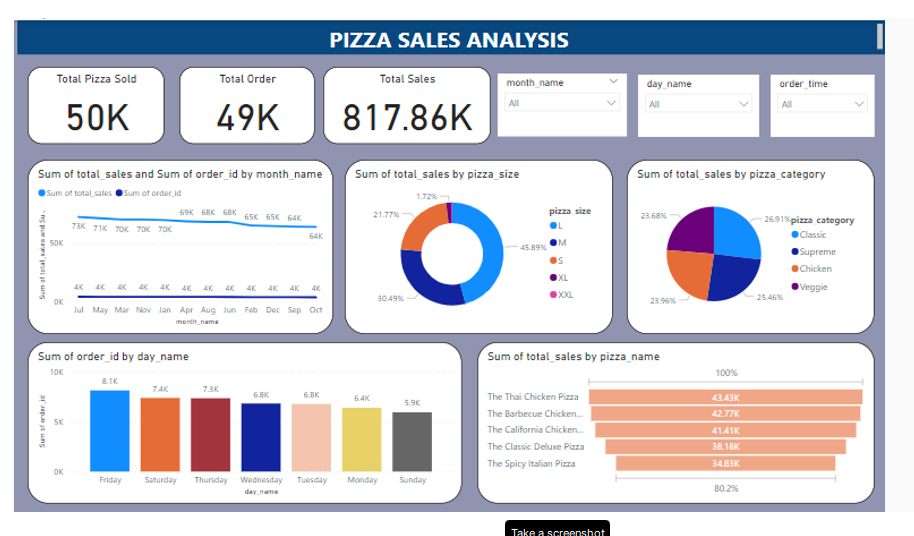

What the dashboard file says about the page in this screenshot:
{"tool":"powerbi","page":{"name":"Page 1","canvas":[1280,720],"ordinal":0},"visuals":[{"type":"textbox","box":[10.1,0,1269.9,50.4],"z":0},{"type":"card","title":"Total Order","fields":{"Values":["Sum(export.order_id)"]},"box":[246.9,67.2,198.2,112.5],"z":1000},{"type":"card","title":"Total Sales","fields":{"Values":["Sum(export.total_sales)"]},"box":[457.8,67.3,244.5,113.2],"z":2000},{"type":"card","title":"Total Pizza Sold","fields":{"Values":["Sum(export.Total Pizzza Sold)"]},"box":[25.2,67.2,199.9,112.5],"z":3000},{"type":"lineChart","fields":{"Y":["Sum(export.total_sales)","Sum(export.order_id)"],"Category":["export.month_name"]},"box":[25.1,204.4,447.3,254.7],"z":4000},{"type":"columnChart","fields":{"Category":["export.day_name"],"Y":["Sum(export.order_id)"]},"box":[25.1,470.8,635,236.2],"z":5000},{"type":"donutChart","fields":{"Category":["export.pizza_size"],"Y":["Sum(export.total_sales)"]},"box":[489.2,204.4,392,254.7],"z":5001},{"type":"pieChart","fields":{"Category":["export.pizza_category"],"Y":["Sum(export.total_sales)"]},"box":[901.4,204.4,361.9,254.7],"z":5002},{"type":"funnel","fields":{"Category":["export.pizza_name"],"Y":["Sum(export.total_sales)"]},"box":[681.9,470.8,581.4,236.2],"z":5003},{"type":"slicer","fields":{"Values":["export.month_name"]},"box":[712.2,77.1,188.7,91.9],"z":5004},{"type":"slicer","fields":{"Values":["export.day_name"]},"box":[917.4,79.5,177.2,91.1],"z":5005},{"type":"slicer","fields":{"Values":["export.order_time"]},"box":[1111.1,79.5,152.3,91.1],"z":5006}]}

Visuals, with their boxes in screenshot pixels (x1, y1, x2, y2):
textbox: [19,19,881,53]
"Total Order" card: [180,65,314,141]
"Total Sales" card: [323,65,489,142]
"Total Pizza Sold" card: [29,65,165,141]
lineChart - Sum(export.total_sales) x Sum(export.order_id): [29,158,333,331]
columnChart - export.day_name x Sum(export.order_id): [29,339,460,499]
donutChart - export.pizza_size x Sum(export.total_sales): [344,158,610,331]
pieChart - export.pizza_category x Sum(export.total_sales): [624,158,870,331]
funnel - export.pizza_name x Sum(export.total_sales): [475,339,870,499]
slicer - export.month_name: [496,71,624,134]
slicer - export.day_name: [635,73,755,135]
slicer - export.order_time: [767,73,870,135]
